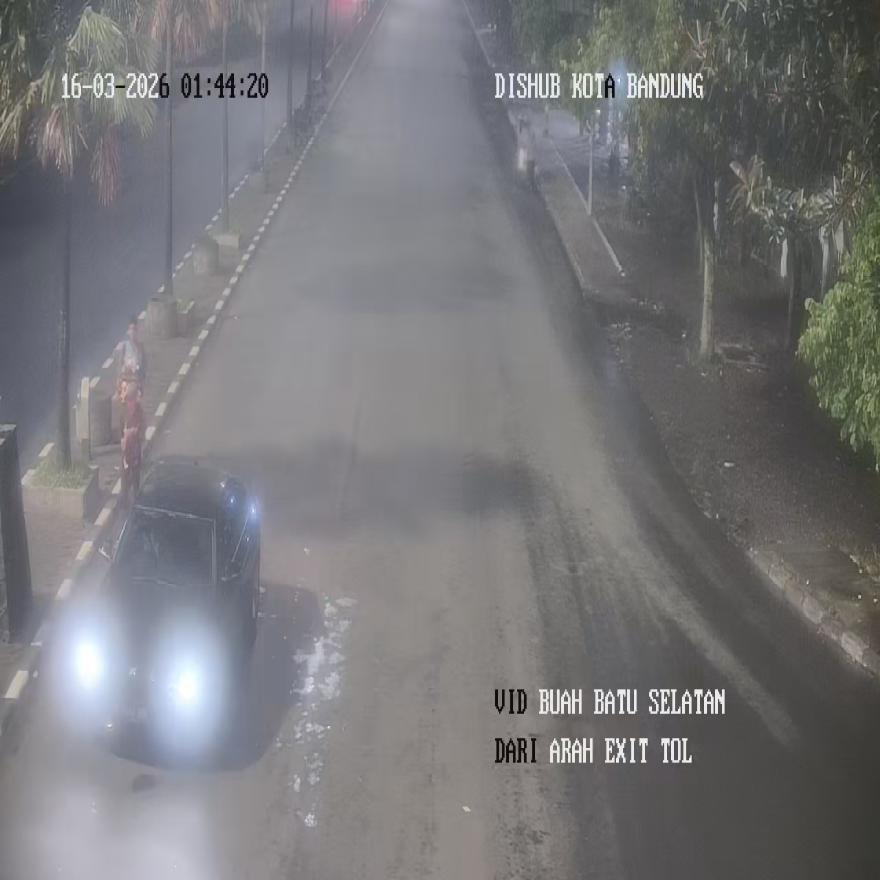Mobil: (59, 454, 262, 750)
